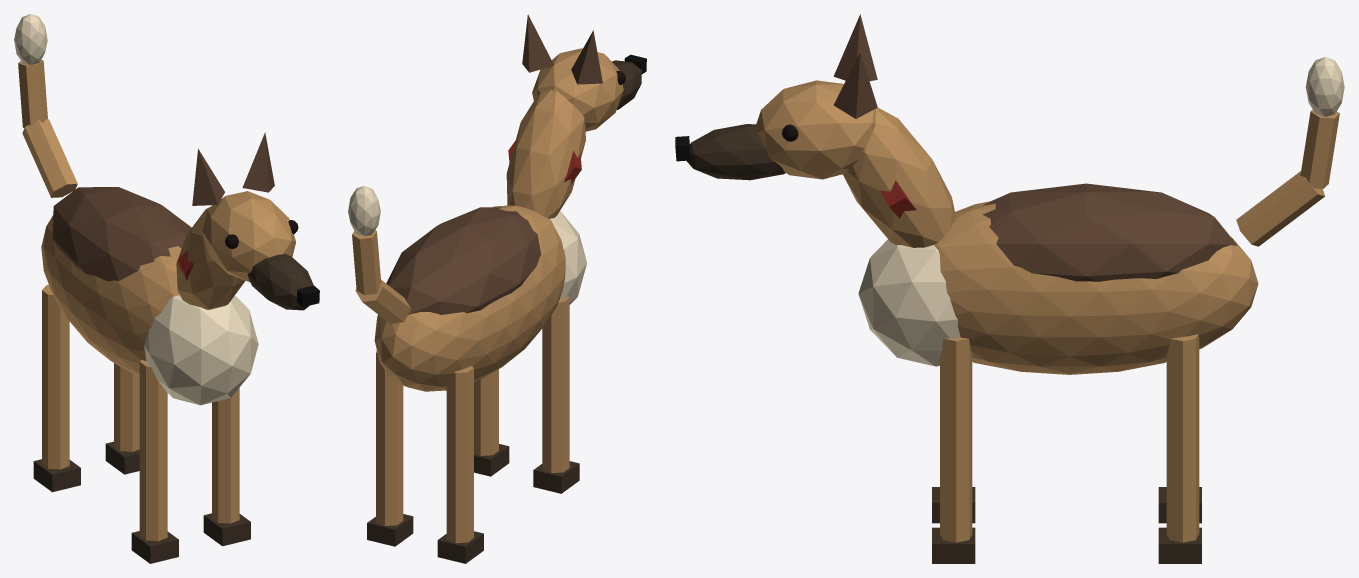
Rendered from guard_dog.glb.
3 renders of one model, left to right at view 1: azimuth 30°, elevation 25°; view 2: azimuth 150°, elevation 25°; view 3: azimuth 270°, elevation 25°, orthographic. The views are drawn at different scales.
Parts seen in each view (by area): view 1: body, chest, saddle, skull, leg_FR_shaft, leg_BR_shaft, leg_FL_shaft, neck, snout, tail_a, leg_BL_shaft, tail_b (+8 smaller); view 2: body, saddle, neck, leg_BR_shaft, leg_FR_shaft, leg_BL_shaft, skull, leg_FL_shaft, chest, tail_b, tail_tip, tail_a (+8 smaller); view 3: body, saddle, chest, neck, skull, leg_BL_shaft, leg_FL_shaft, snout, tail_a, tail_b, tail_tip, ear (+3 smaller).
Part boxes in pixels (bbox=[...]): body: bbox=[41, 215, 181, 376]; chest: bbox=[144, 295, 258, 405]; saddle: bbox=[52, 187, 191, 281]; skull: bbox=[202, 191, 295, 282]; leg_FR_shaft: bbox=[139, 360, 167, 541]; leg_BR_shaft: bbox=[42, 285, 69, 469]; leg_FL_shaft: bbox=[212, 388, 239, 523]; neck: bbox=[176, 205, 245, 309]; snout: bbox=[247, 253, 313, 310]; tail_a: bbox=[22, 119, 77, 197]; leg_BL_shaft: bbox=[114, 363, 139, 451]; tail_b: bbox=[18, 60, 47, 127]; body: bbox=[374, 205, 565, 391]; saddle: bbox=[386, 207, 541, 314]; neck: bbox=[506, 89, 585, 218]; leg_BR_shaft: bbox=[446, 366, 473, 543]; leg_FR_shaft: bbox=[542, 296, 569, 473]; leg_BL_shaft: bbox=[376, 350, 403, 525]; skull: bbox=[532, 48, 623, 131]; leg_FL_shaft: bbox=[474, 369, 498, 455]; chest: bbox=[550, 211, 586, 304]; tail_b: bbox=[352, 230, 381, 295]; tail_tip: bbox=[348, 186, 380, 236]; tail_a: bbox=[355, 279, 410, 323]; body: bbox=[934, 201, 1258, 374]; saddle: bbox=[983, 183, 1236, 281]; chest: bbox=[858, 239, 960, 366]; neck: bbox=[842, 107, 955, 247]; skull: bbox=[755, 80, 877, 179]; leg_BL_shaft: bbox=[1166, 334, 1199, 542]; leg_FL_shaft: bbox=[940, 337, 972, 542]; snout: bbox=[686, 124, 785, 180]; tail_a: bbox=[1236, 171, 1325, 246]; tail_b: bbox=[1300, 110, 1339, 188]; tail_tip: bbox=[1305, 57, 1344, 116]; ear: bbox=[833, 52, 877, 118].
Bounding box in the file's own units: 0.28 × 0.9977 × 1.2.
